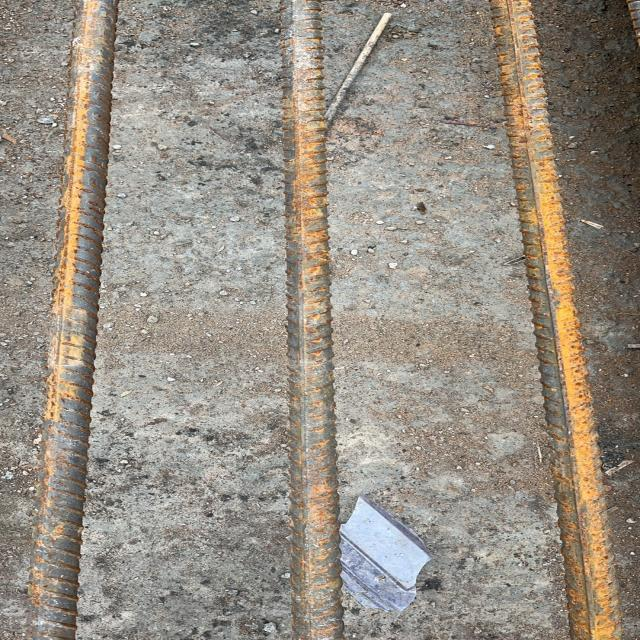ribbed bar: (486, 0, 621, 639), (21, 0, 118, 639), (276, 0, 346, 639)
